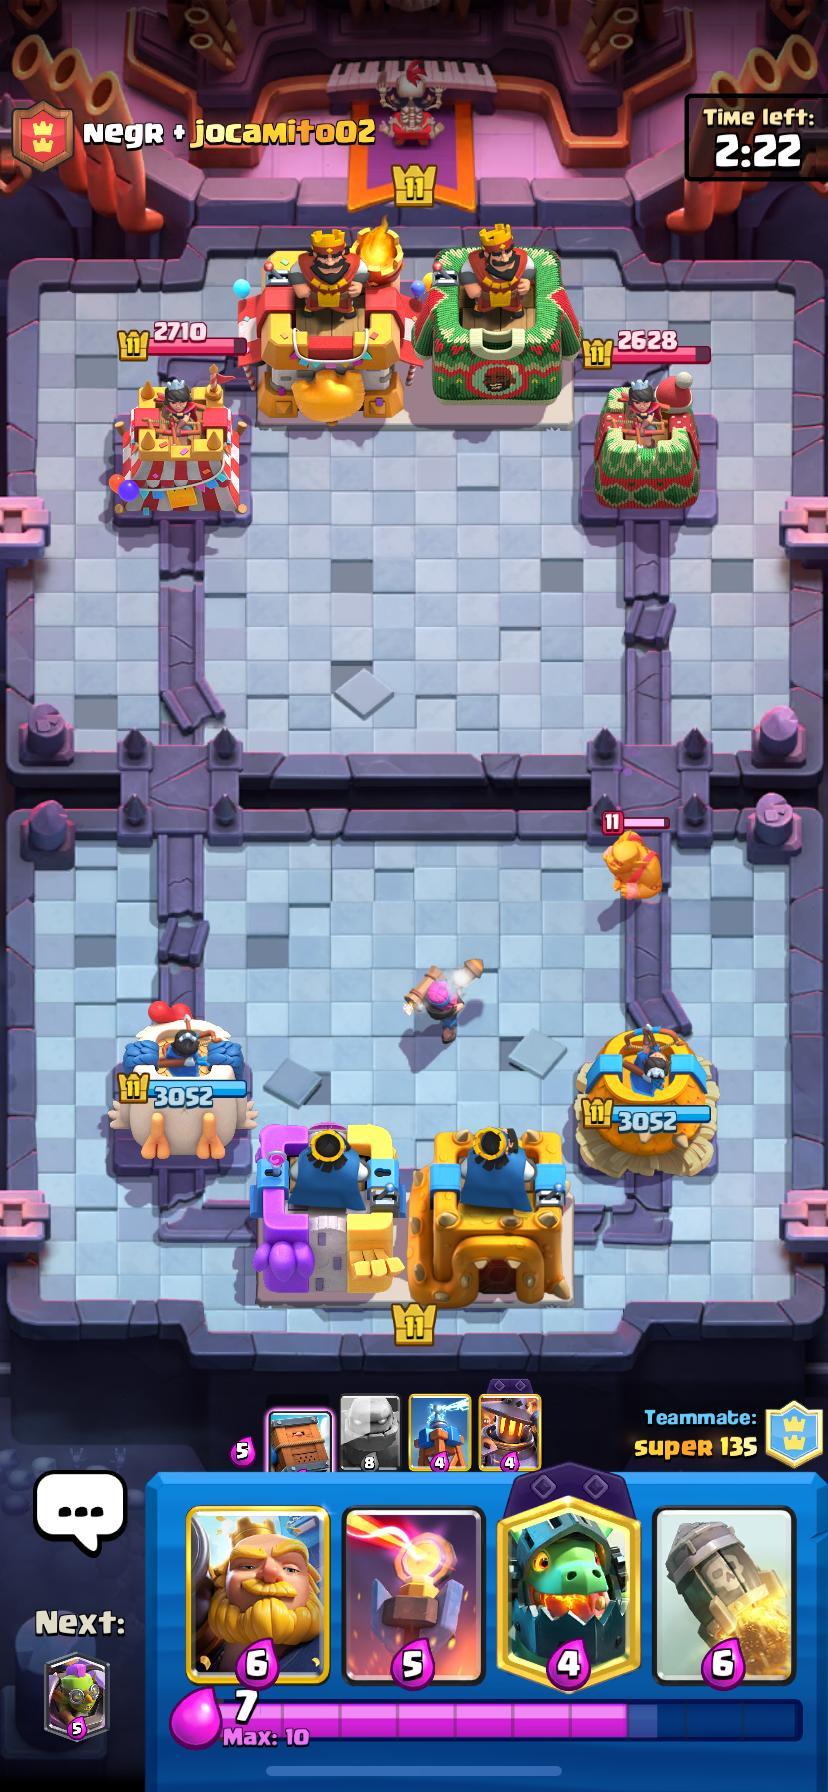EBrawler: (604, 831, 661, 894), (621, 871, 651, 899)
EKingTower: (240, 222, 411, 424), (414, 225, 579, 402)
EnemyPrincessTower: (116, 373, 246, 514), (594, 370, 699, 512)
OFirecrack: (404, 966, 461, 1043)
OwnKingTower: (253, 1123, 403, 1302), (430, 1128, 573, 1305)
OwnPrincessTower: (109, 1003, 256, 1159), (576, 1023, 717, 1175)
